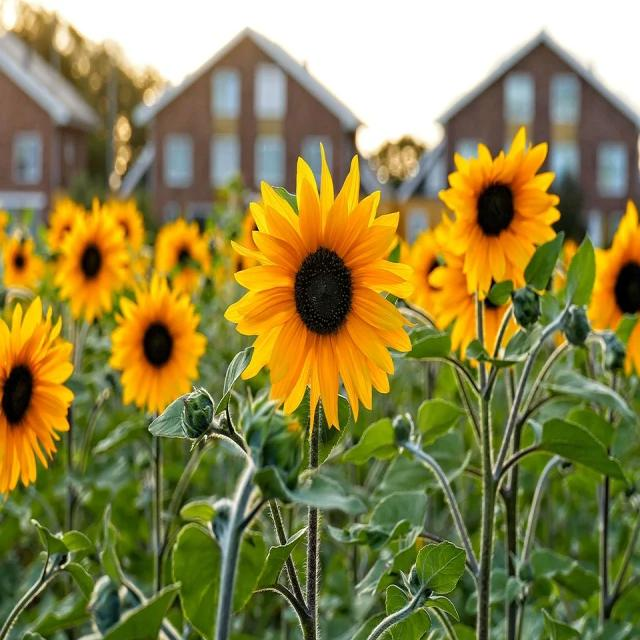sunflower: (227, 148, 423, 414), (426, 118, 563, 312), (109, 266, 212, 424), (0, 310, 83, 502), (49, 203, 140, 328)
